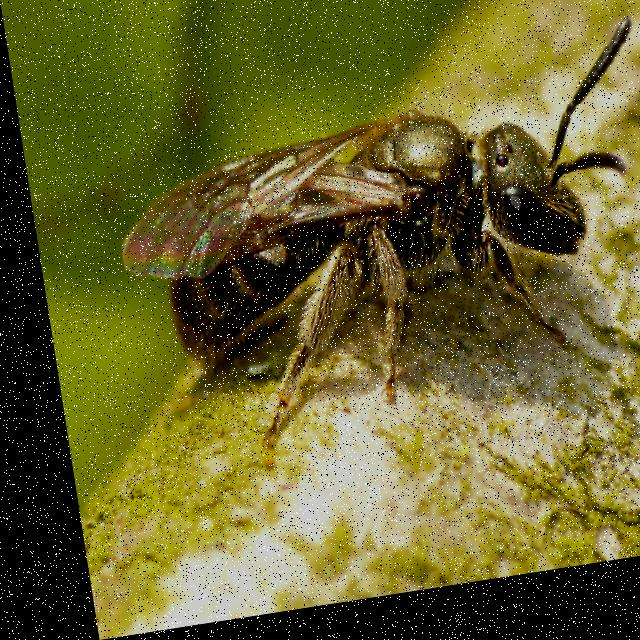Lasioglossum: (98, 61, 640, 475)
